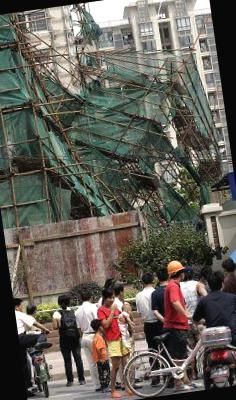no_helmet: (206, 270, 229, 294), (76, 284, 95, 306), (52, 292, 72, 312), (154, 266, 172, 288), (138, 270, 156, 290), (219, 257, 236, 278), (181, 265, 198, 285), (108, 281, 126, 299), (13, 292, 26, 313), (98, 288, 115, 304), (25, 302, 40, 320)
